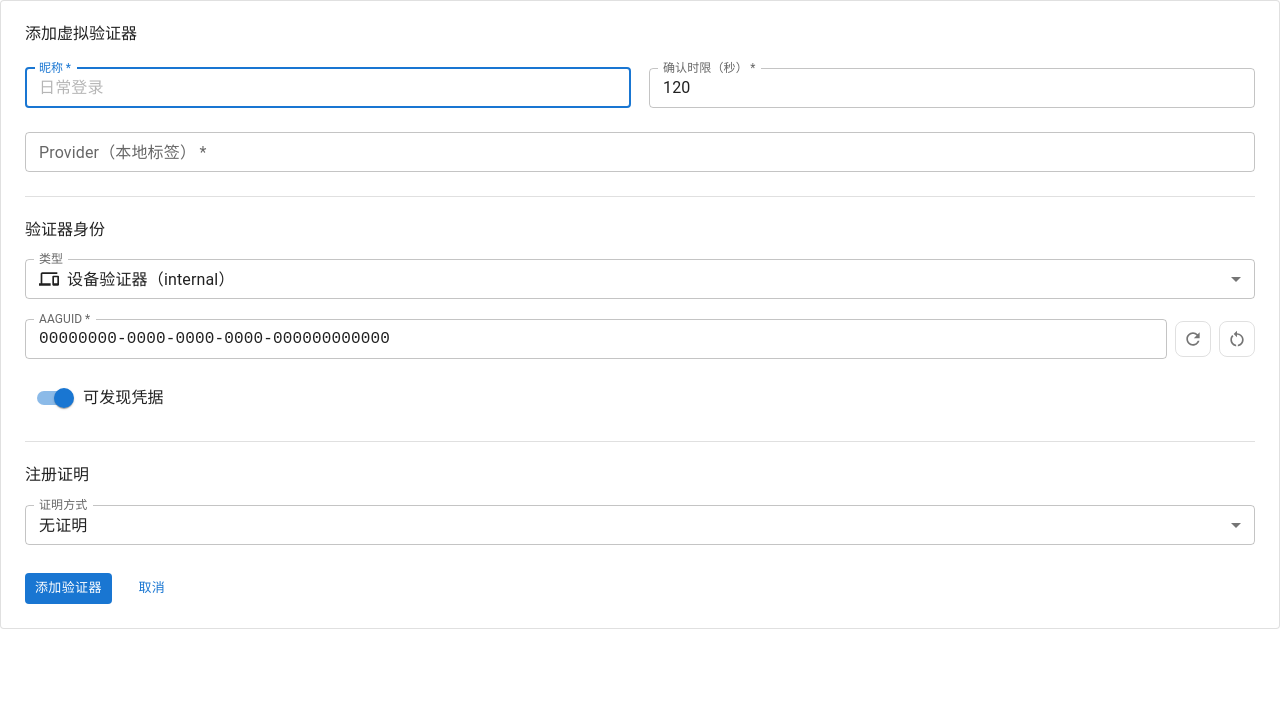
Test: Material UI key form › requires an explicit Provider for new keys instead of silently restoring a preset
Type "New key" into the field labelled "昵称 *" at x=328, y=88, box [25, 68, 631, 108]
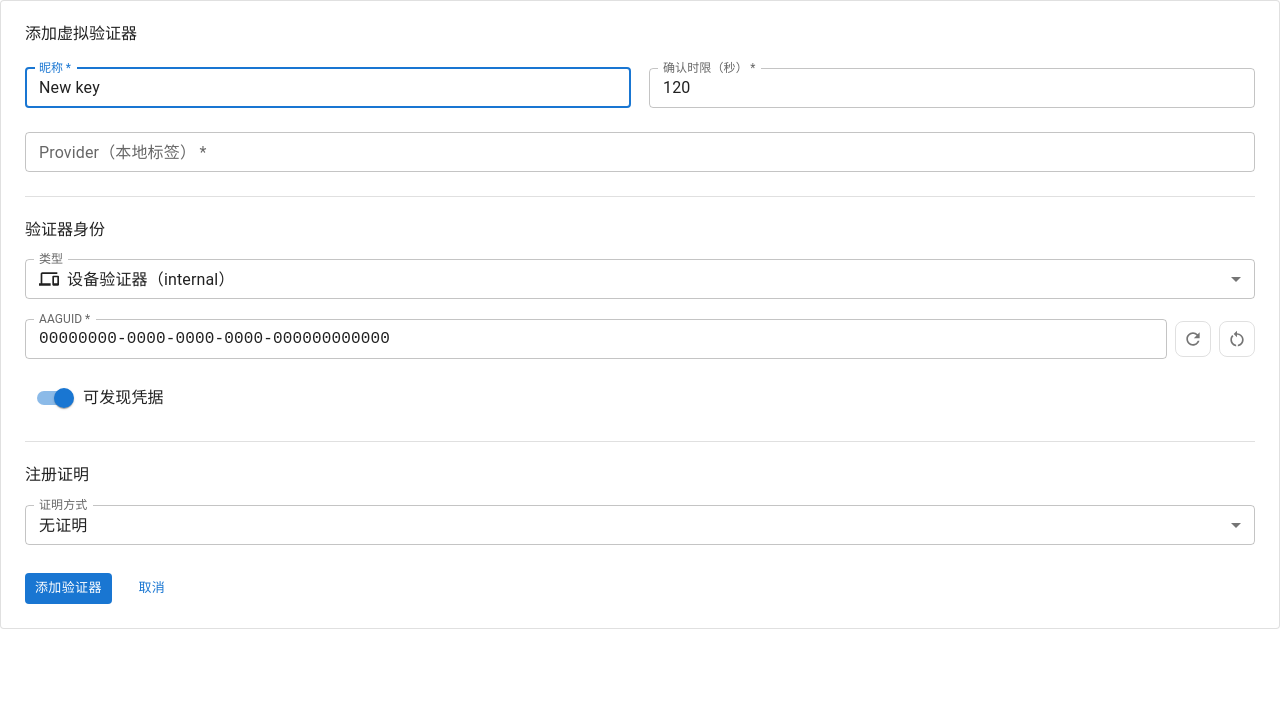
Expected: the field labelled "Provider（本地标签） *" is empty, [25, 132, 1255, 172]
Submit the form
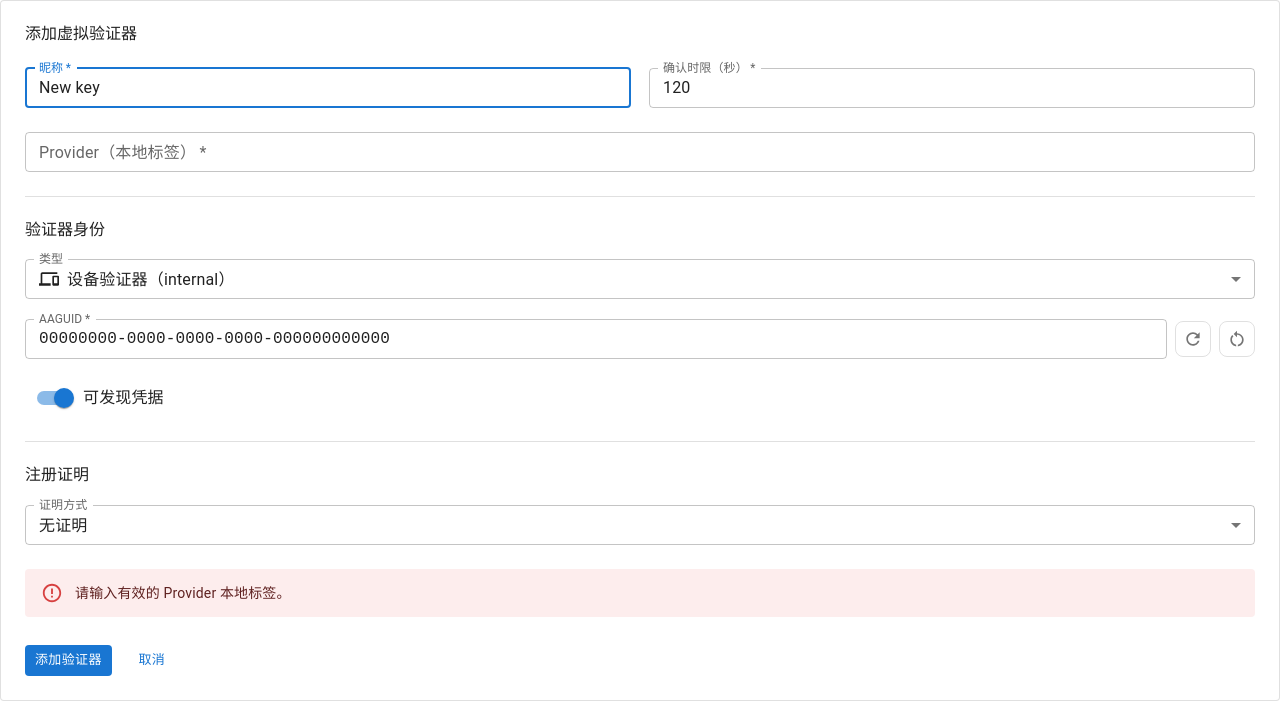
Expected: the field labelled "Provider（本地标签） *" is empty, [25, 132, 1255, 172]
Expected: the message shows "请输入有效的 Provider 本地标签", [75, 585, 291, 601]
